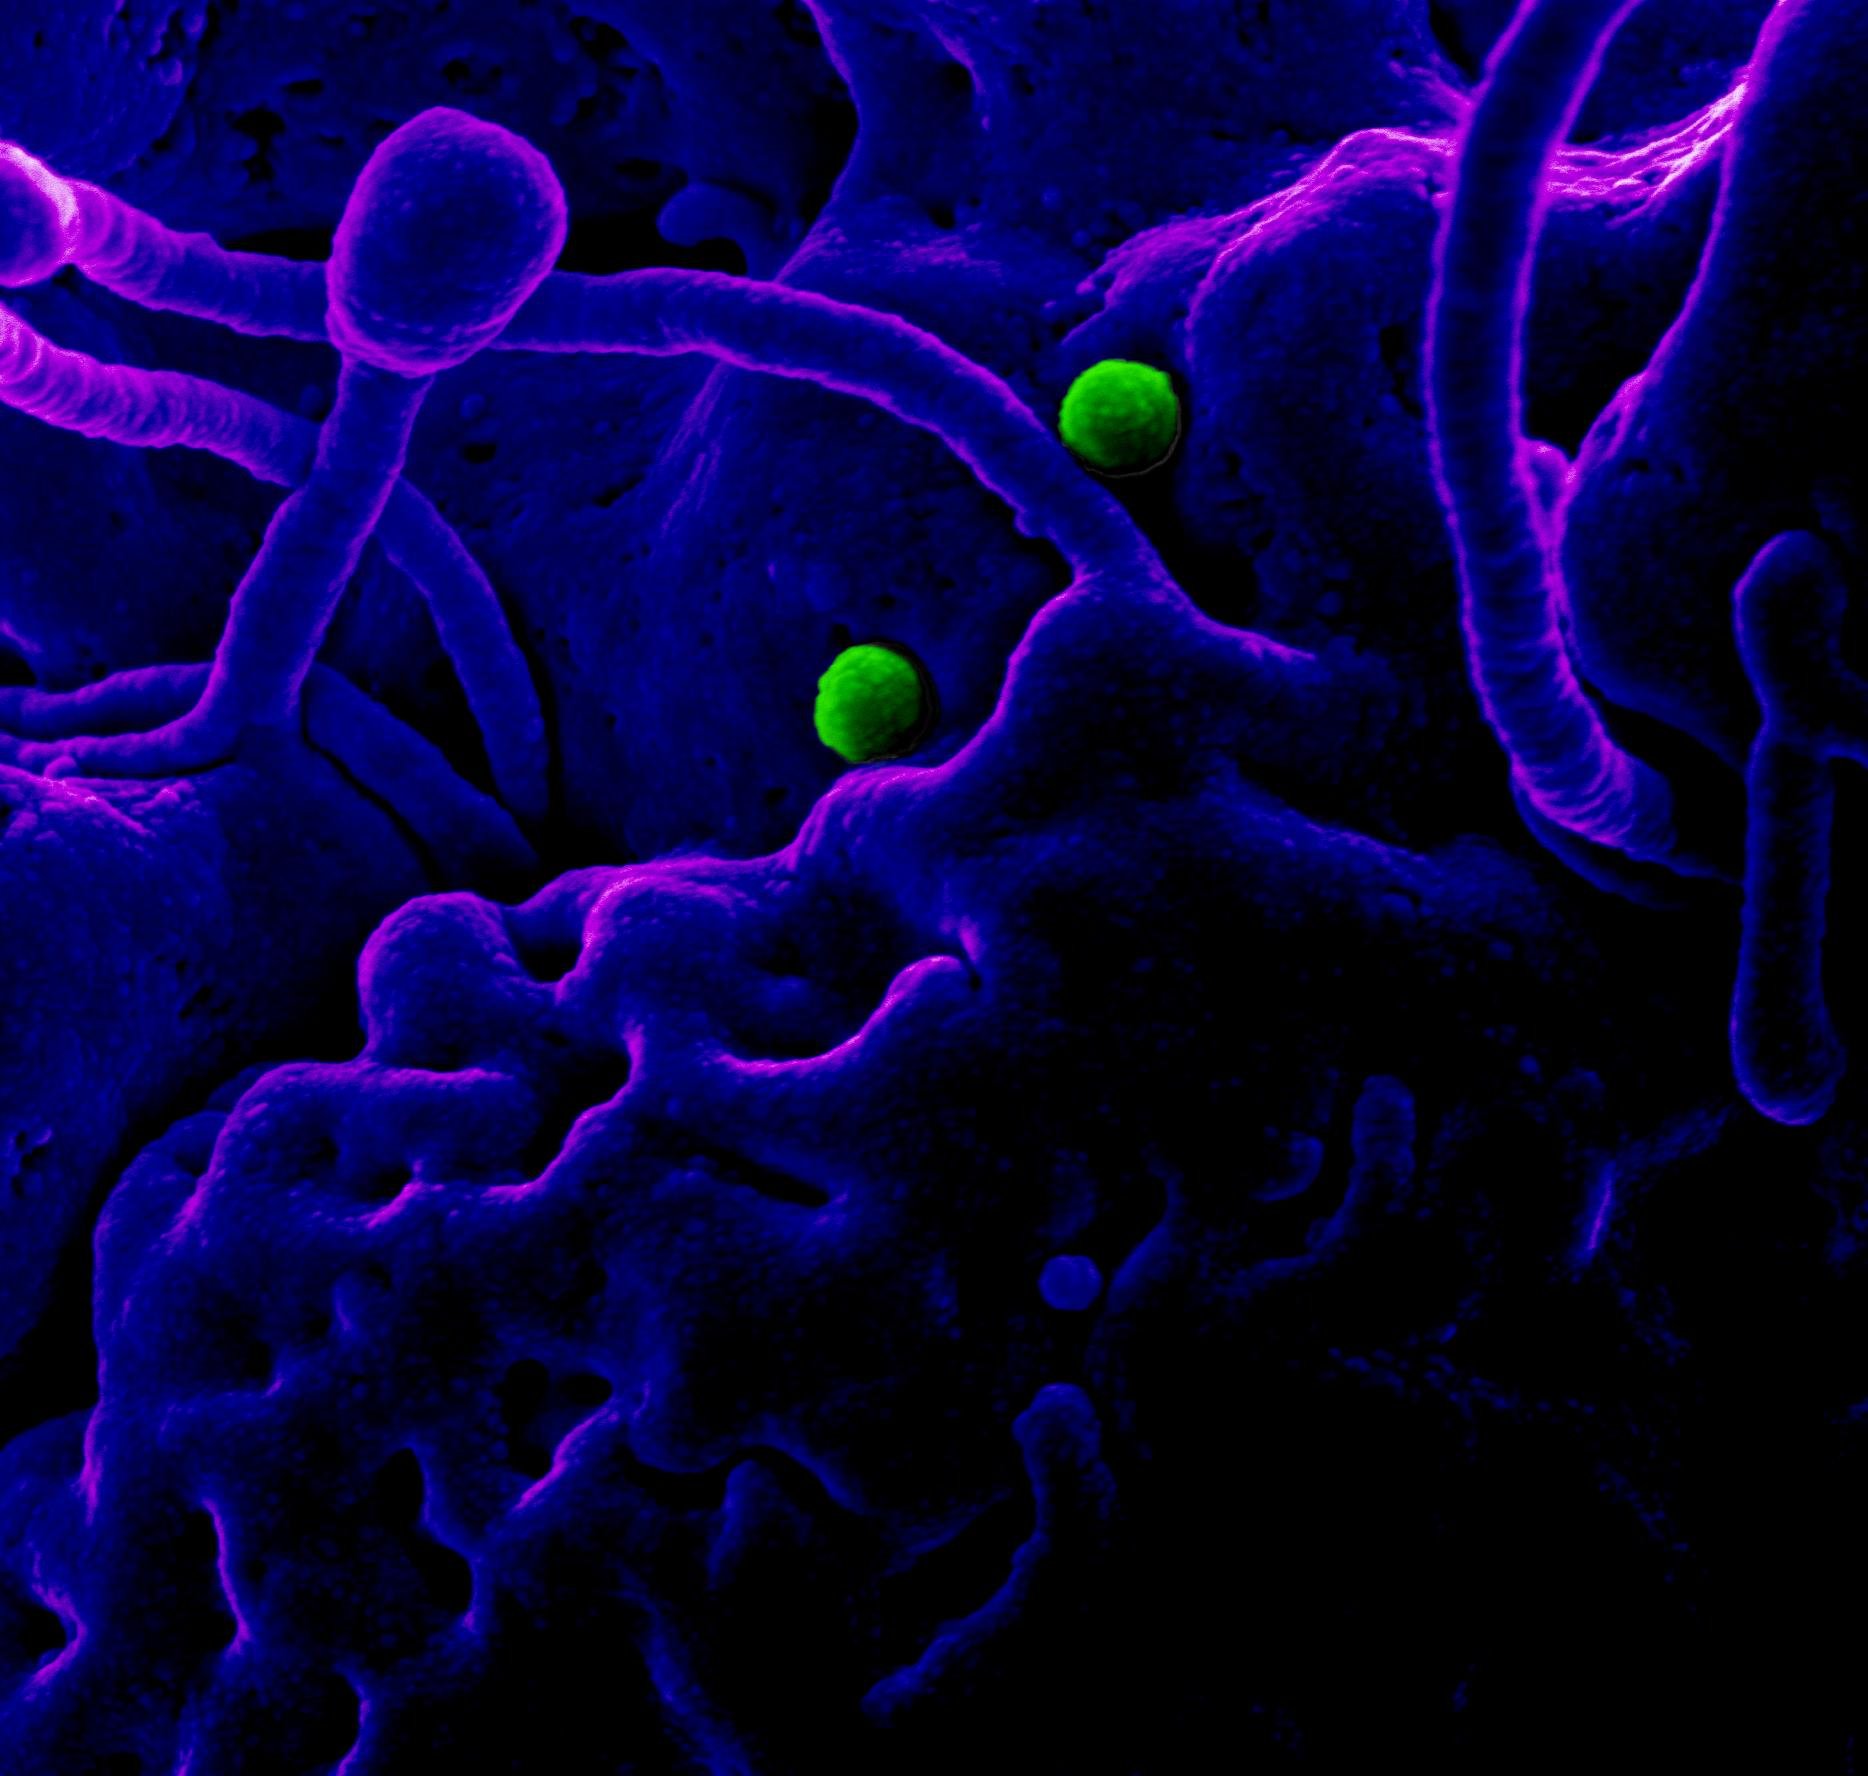COVID19: (680, 297, 1551, 1122)
